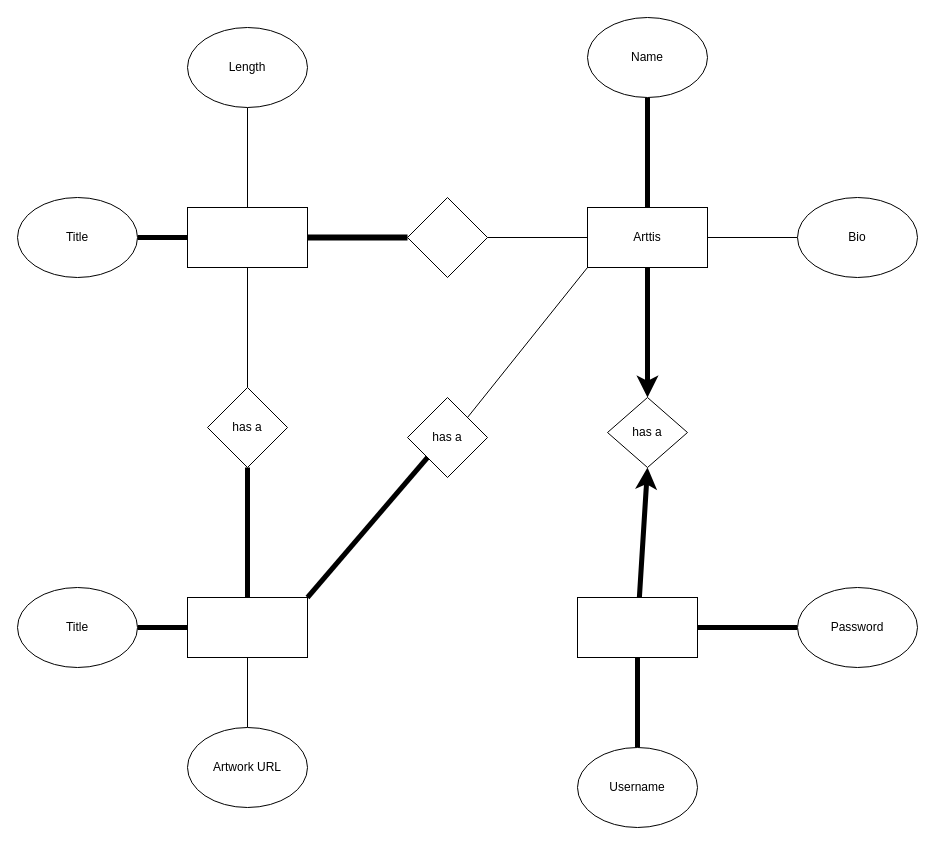
The diagram is 935 pixels wide and 845 high, and some of its shapes have lost their labels. The shapes that lost their labels are listed below. From the top down, each one's centre as x and y in pixels, then its label:
At point (247, 237): "Song".
At point (447, 237): "written by".
At point (247, 627): "Album".
At point (637, 627): "User Account".
